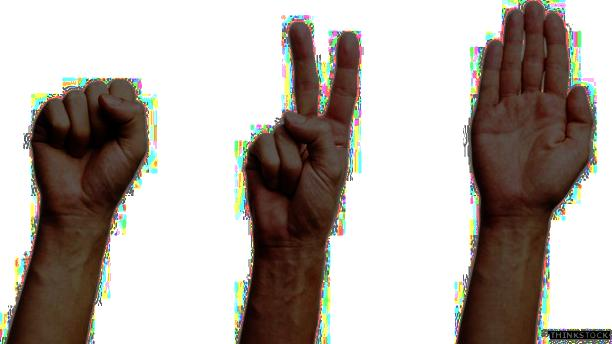Paper: (465, 0, 594, 214)
Rock: (24, 74, 158, 232)
Scissors: (235, 17, 367, 255)
